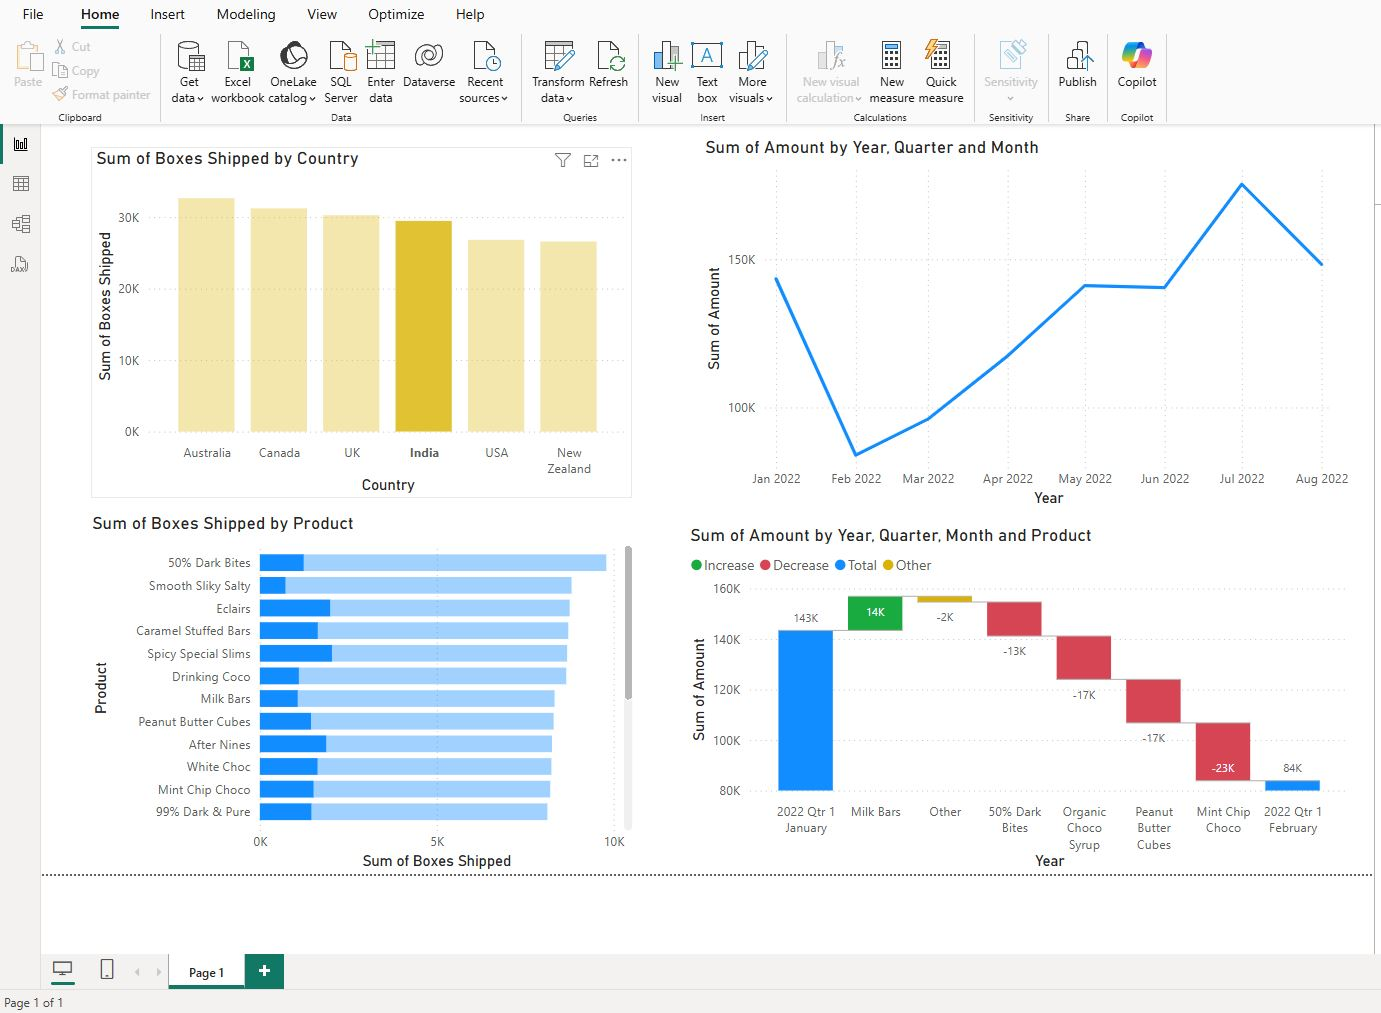

What the dashboard file says about the page in this screenshot:
{"tool":"powerbi","page":{"name":"Page 1","canvas":[1280,720],"ordinal":0},"visuals":[{"type":"clusteredColumnChart","fields":{"Category":["data.Country"],"Y":["Sum(data.Boxes Shipped)"]},"box":[47.6,22.4,520,337.3],"z":0},{"type":"clusteredBarChart","fields":{"Y":["Sum(data.Boxes Shipped)"],"Category":["data.Product"]},"box":[43.7,372.2,528.7,347.9],"z":1000},{"type":"lineChart","fields":{"Y":["Sum(data.Amount)"],"Category":["data.Date.Variation.Date Hierarchy.Year","data.Date.Variation.Date Hierarchy.Quarter","data.Date.Variation.Date Hierarchy.Month","data.Date.Variation.Date Hierarchy.Day"]},"box":[632.7,11.7,627.9,360.6],"z":2000},{"type":"waterfallChart","fields":{"Category":["data.Date.Variation.Date Hierarchy.Year","data.Date.Variation.Date Hierarchy.Quarter","data.Date.Variation.Date Hierarchy.Month"],"Breakdown":["data.Product"],"Y":["Sum(data.Amount)"]},"box":[618.1,383.9,642.4,336.3],"z":2001}]}

Visuals, with their boxes on the page's 1280x720 design canvas (x1, y1, x2, y2). These are canvas units, not pixel positions in the 1381x1013 screenshot, which may show the page scaled, cropped or inside an application window:
clusteredColumnChart - data.Country x Sum(data.Boxes Shipped): [left=48, top=22, right=568, bottom=360]
clusteredBarChart - Sum(data.Boxes Shipped) x data.Product: [left=44, top=372, right=572, bottom=720]
lineChart - Sum(data.Amount) x data.Date.Variation.Date Hierarchy.Year: [left=633, top=12, right=1261, bottom=372]
waterfallChart - data.Date.Variation.Date Hierarchy.Year x data.Date.Variation.Date Hierarchy.Quarter: [left=618, top=384, right=1260, bottom=720]
